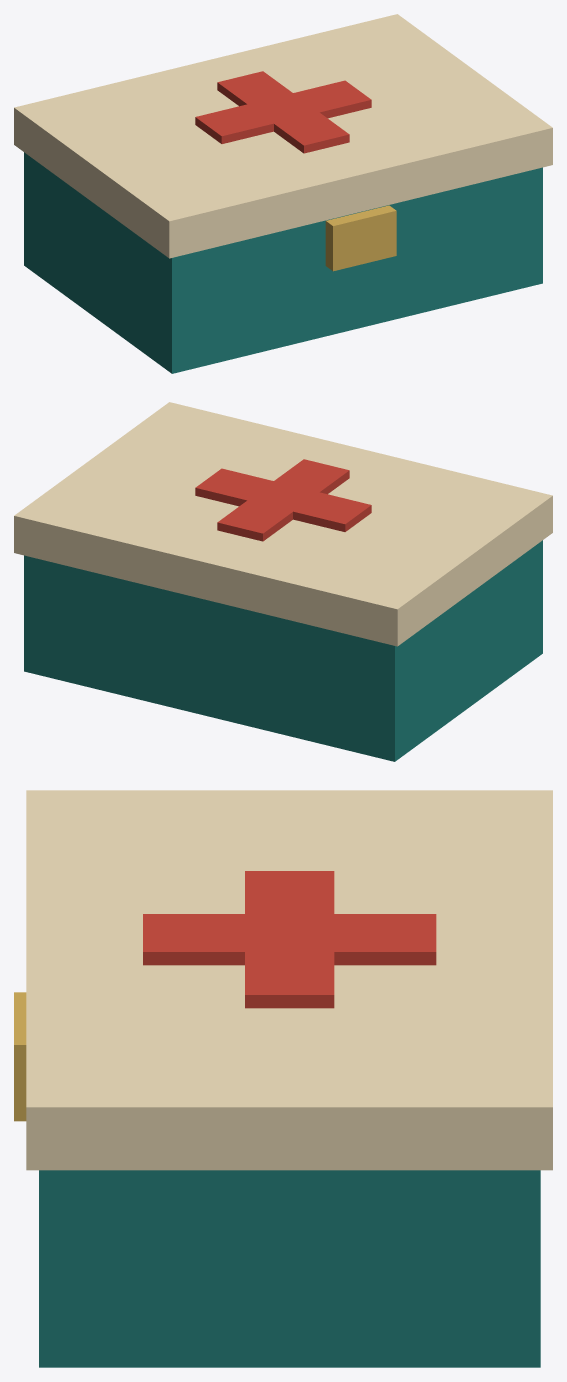
Rendered from med_tin.glb.
The picture shows the model from 3 angles, top to bottom: view 1: azimuth 30°, elevation 25°; view 2: azimuth 150°, elevation 25°; view 3: azimuth 270°, elevation 25°; orthographic projection. The views are drawn at different scales.
Parts seen in each view (by area): view 1: Merged; view 2: Merged; view 3: Merged.
Part boxes in pixels (x1,y1,x2,y2): Merged: (14, 14, 552, 373); Merged: (14, 402, 552, 761); Merged: (14, 790, 552, 1367).
Bounding box in the file's own units: 0.3775 × 0.1562 × 0.2713.
